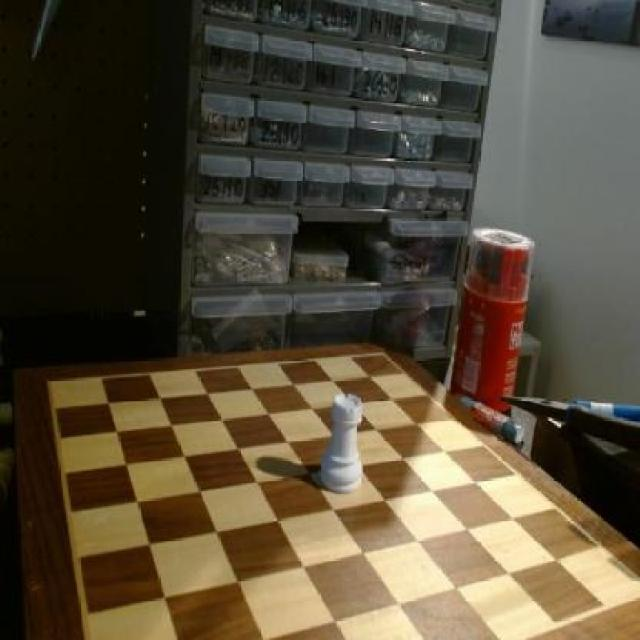white-queen: (312, 391, 372, 500)
